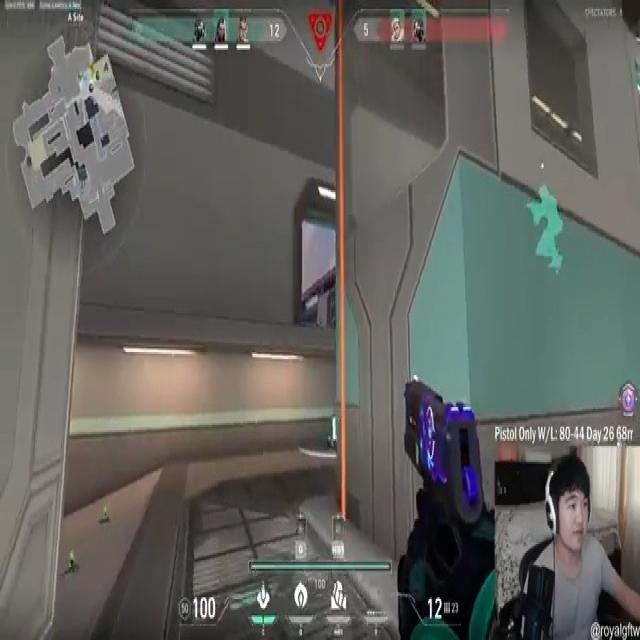ally behind wall: (520, 172, 569, 282)
